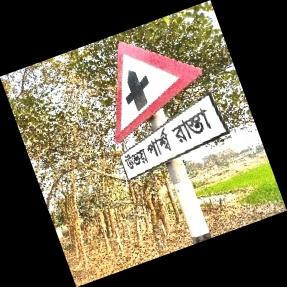Crossroad: (114, 36, 225, 178)
